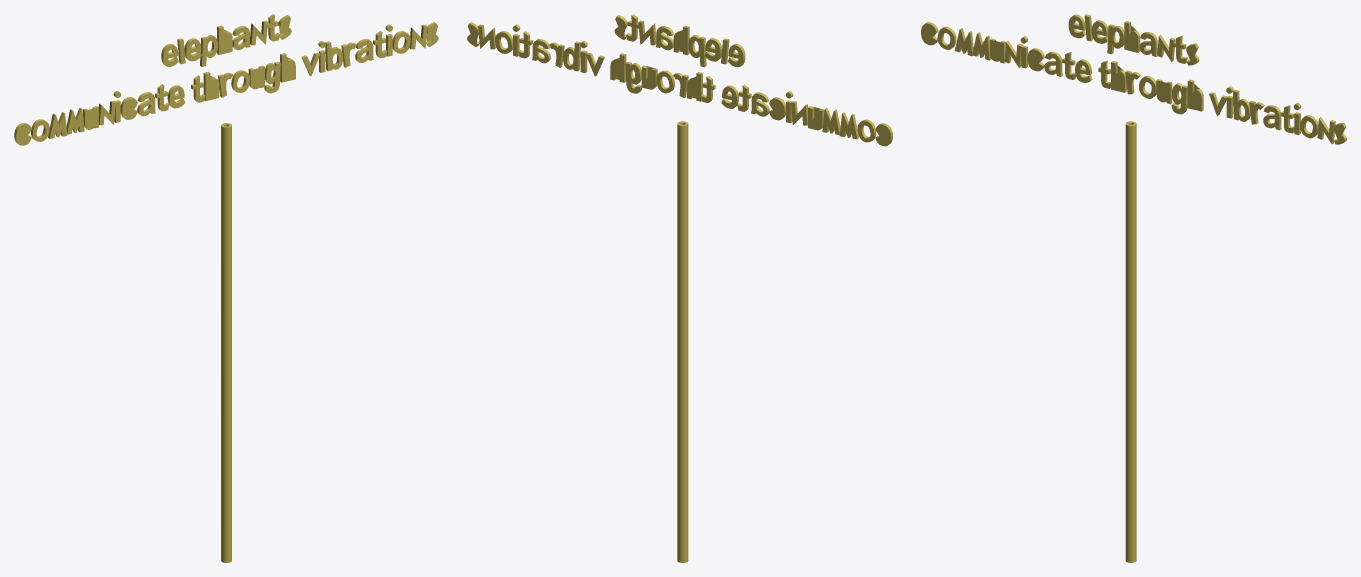
Rendered from tit bit  2.fbx.
3 views of the same model, side by side, from view 1: azimuth 30°, elevation 25°; view 2: azimuth 150°, elevation 25°; view 3: azimuth 330°, elevation 25° (orthographic).
Parts seen in each view (by area): view 1: Tube; view 2: Tube; view 3: Tube.
Boxes of the visible parts, x1=… form: Tube: x1=221, y1=123, x2=231, y2=562; Tube: x1=677, y1=121, x2=688, y2=562; Tube: x1=1125, y1=121, x2=1136, y2=562.
Bounding box in the file's own units: 8813 × 10649 × 200.
